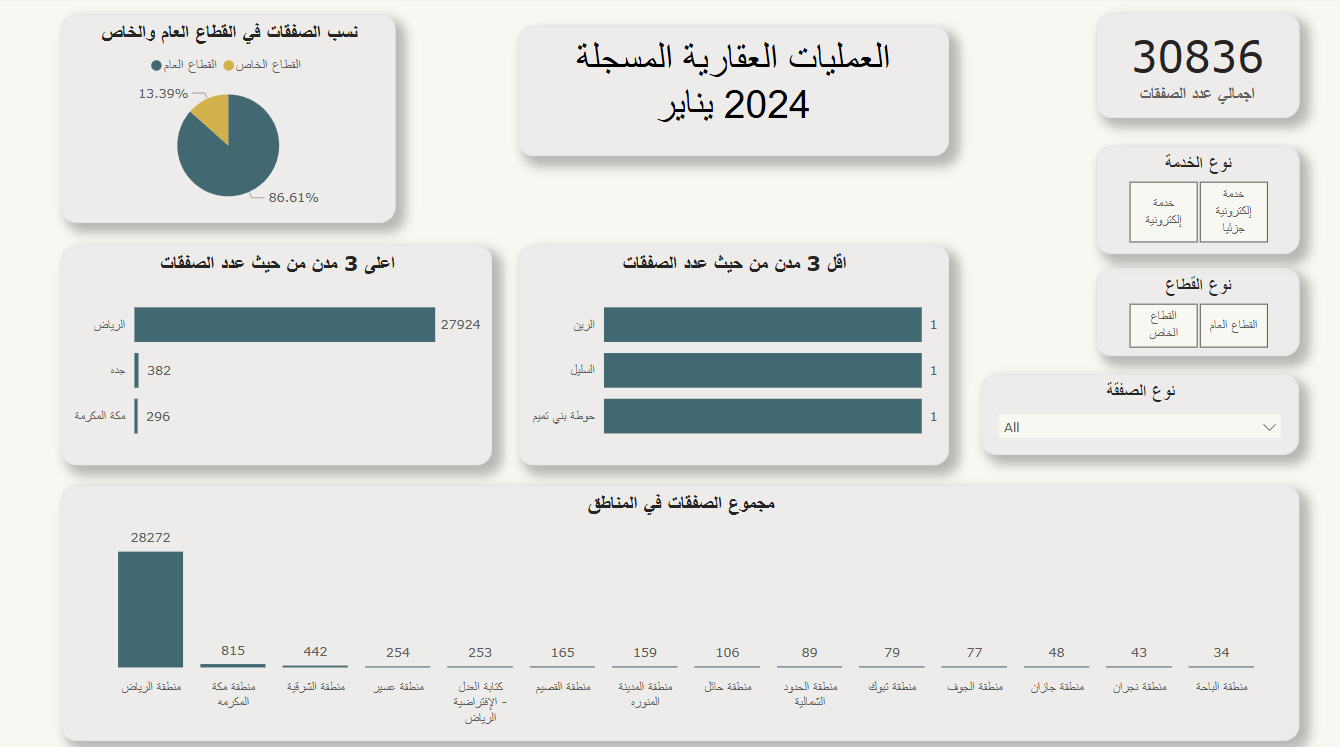

The page's visual inventory and layout, read from the dashboard file:
{"tool":"powerbi","page":{"name":"Page 1","canvas":[1280,720],"ordinal":0},"visuals":[{"type":"pieChart","title":"نسب الصفقات في القطاع العام والخاص","fields":{"Category":["Table1.نوع القطاع"],"Y":["Sum(Table1.عدد العمليات)"]},"box":[59,16,319,199],"z":0},{"type":"card","fields":{"Values":["Sum(Table1.عدد العمليات)"]},"box":[1046.6,15.6,193.6,100.2],"z":1000},{"type":"slicer","title":"نوع الخدمة","fields":{"Values":["Table1.نوع الخدمة"]},"box":[1046.6,142,193.6,103.1],"z":2000},{"type":"clusteredColumnChart","title":"مجموع الصفقات في المناطق","fields":{"Category":["Table1.المنطقة"],"Y":["Sum(Table1.عدد العمليات)"]},"box":[59,465,1181,244],"z":3000},{"type":"clusteredBarChart","title":"اعلى 3 مدن من حيث عدد الصفقات","fields":{"Y":["Sum(Table1.عدد العمليات)"],"Category":["Table1.المدينة"]},"box":[59,237,411,210],"z":4000},{"type":"clusteredBarChart","title":"اقل 3 مدن من حيث عدد الصفقات","fields":{"Y":["Sum(Table1.عدد العمليات)"],"Category":["Table1.المدينة"]},"box":[495,237,411,210],"z":5000},{"type":"slicer","title":"نوع القطاع","fields":{"Values":["Table1.نوع القطاع"]},"box":[1046.6,258.7,193.6,83.6],"z":6000},{"type":"slicer","title":"نوع الصفقة","fields":{"Values":["Table1.نوع العملية"]},"box":[937,360,303,77],"z":7000},{"type":"textbox","box":[495,28,411,124],"z":8000}]}

Visuals, with their boxes in screenshot pixels (x1, y1, x2, y2), scaled from the page's 1280x720 canvas onto the 1340x747 screenshot:
"نسب الصفقات في القطاع العام والخاص" pieChart: [left=62, top=17, right=396, bottom=223]
card - Sum(Table1.عدد العمليات): [left=1096, top=16, right=1298, bottom=120]
"نوع الخدمة" slicer: [left=1096, top=147, right=1298, bottom=254]
"مجموع الصفقات في المناطق" clusteredColumnChart: [left=62, top=482, right=1298, bottom=736]
"اعلى 3 مدن من حيث عدد الصفقات" clusteredBarChart: [left=62, top=246, right=492, bottom=464]
"اقل 3 مدن من حيث عدد الصفقات" clusteredBarChart: [left=518, top=246, right=948, bottom=464]
"نوع القطاع" slicer: [left=1096, top=268, right=1298, bottom=355]
"نوع الصفقة" slicer: [left=981, top=374, right=1298, bottom=453]
textbox: [left=518, top=29, right=948, bottom=158]
